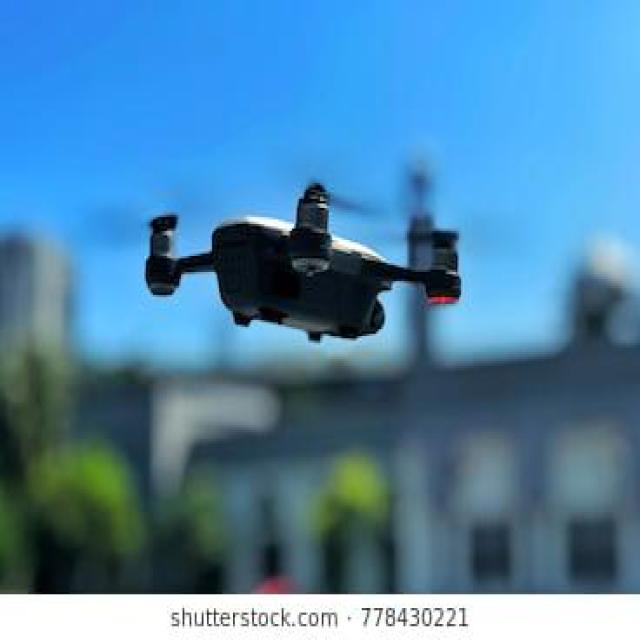drone: (81, 137, 486, 399)
